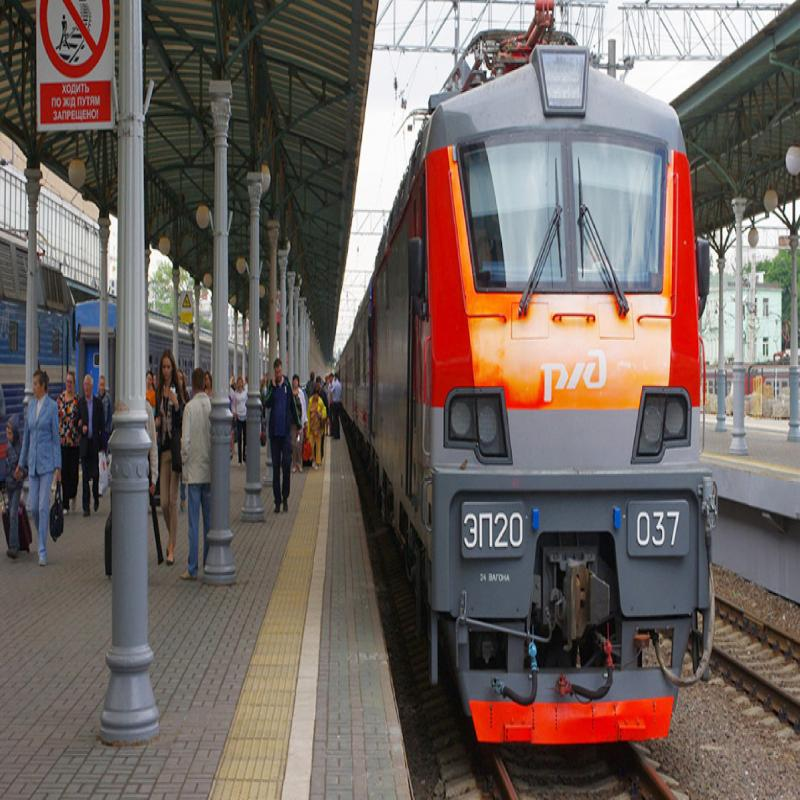train: (407, 13, 716, 758)
